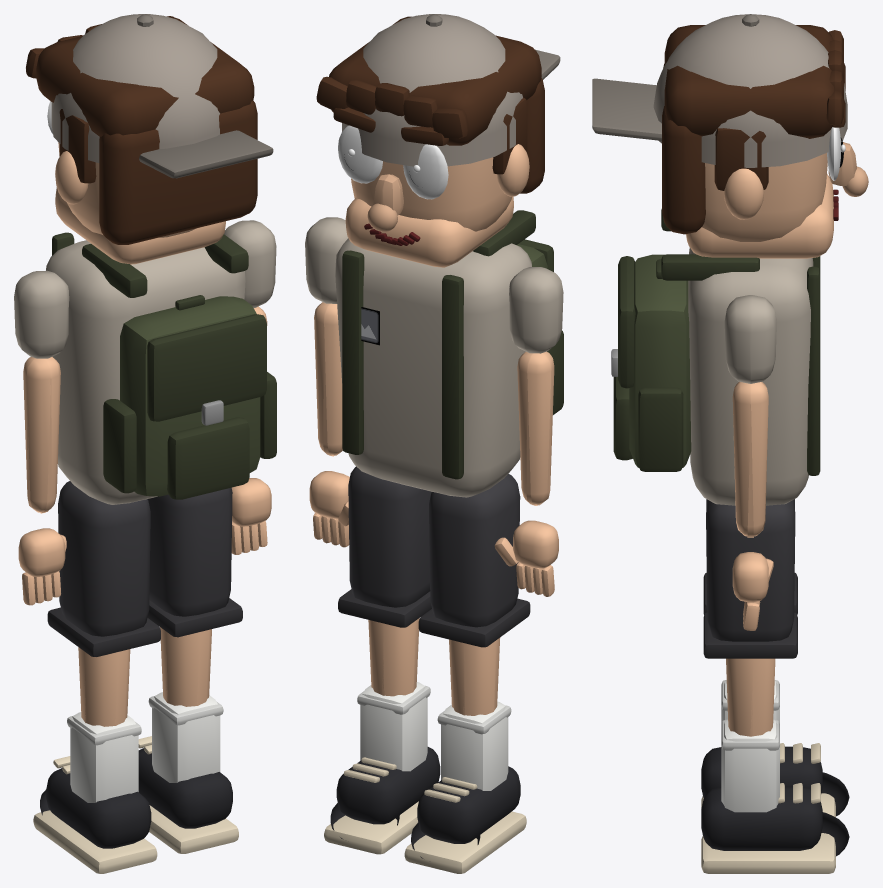
The model's file is bub.glb.
3 views of the same model, side by side, from view 1: azimuth 30°, elevation 25°; view 2: azimuth 150°, elevation 25°; view 3: azimuth 270°, elevation 25° (orthographic).
Visible parts, largest first — view 1: legL, legR, pack_torso_m_20, torso, hair_head_hair_15, armL, hat_head_hat_16, pack_torso_m_19, hairtop_head_hair_15, head, armR, hat_head_hat2_17; view 2: torso, legL, legR, head, hat_head_hat_16, armL, pack_torso_m_20, hairtop_head_hair_15, armR, hair_head_hair_15, hat_head_hat2_17; view 3: legR, torso, head, hat_head_hat_16, pack_torso_m_20, armR, hairtop_head_hair_15, pack_torso_m_19, hair_head_hair_15, legL, hat_head_hat2_17.
Boxes of the visible parts, left/top/right/bottom form: legL: left=33, top=481, right=160, bottom=873; legR: left=138, top=487, right=242, bottom=853; pack_torso_m_20: left=52, top=232, right=276, bottom=499; torso: left=46, top=240, right=245, bottom=504; hair_head_hair_15: left=59, top=100, right=257, bottom=244; armL: left=14, top=270, right=69, bottom=605; hat_head_hat_16: left=51, top=14, right=219, bottom=162; pack_torso_m_19: left=120, top=296, right=260, bottom=496; hairtop_head_hair_15: left=26, top=16, right=254, bottom=136; head: left=47, top=101, right=225, bottom=264; armR: left=224, top=220, right=276, bottom=554; hat_head_hat2_17: left=137, top=14, right=273, bottom=178; torso: left=335, top=238, right=531, bottom=497; legL: left=404, top=474, right=530, bottom=873; legR: left=324, top=466, right=440, bottom=854; head: left=333, top=107, right=529, bottom=267; hat_head_hat_16: left=342, top=14, right=522, bottom=166; armL: left=494, top=267, right=563, bottom=596; pack_torso_m_20: left=342, top=210, right=563, bottom=479; hairtop_head_hair_15: left=316, top=16, right=541, bottom=145; armR: left=305, top=217, right=349, bottom=547; hair_head_hair_15: left=492, top=78, right=544, bottom=193; hat_head_hat2_17: left=426, top=14, right=560, bottom=79; legR: left=701, top=500, right=849, bottom=873; torso: left=688, top=247, right=813, bottom=505; head: left=686, top=63, right=868, bottom=258; hat_head_hat_16: left=653, top=14, right=847, bottom=167; pack_torso_m_20: left=613, top=209, right=820, bottom=475; armR: left=724, top=295, right=776, bottom=630; hairtop_head_hair_15: left=664, top=25, right=843, bottom=138; pack_torso_m_19: left=629, top=254, right=691, bottom=467; hair_head_hair_15: left=662, top=63, right=768, bottom=234; legL: left=701, top=499, right=849, bottom=817; hat_head_hat2_17: left=592, top=14, right=759, bottom=140.
Bounding box in the file's own units: 0.6488 × 2.03 × 0.6149.
22 materials, 1 textured.
